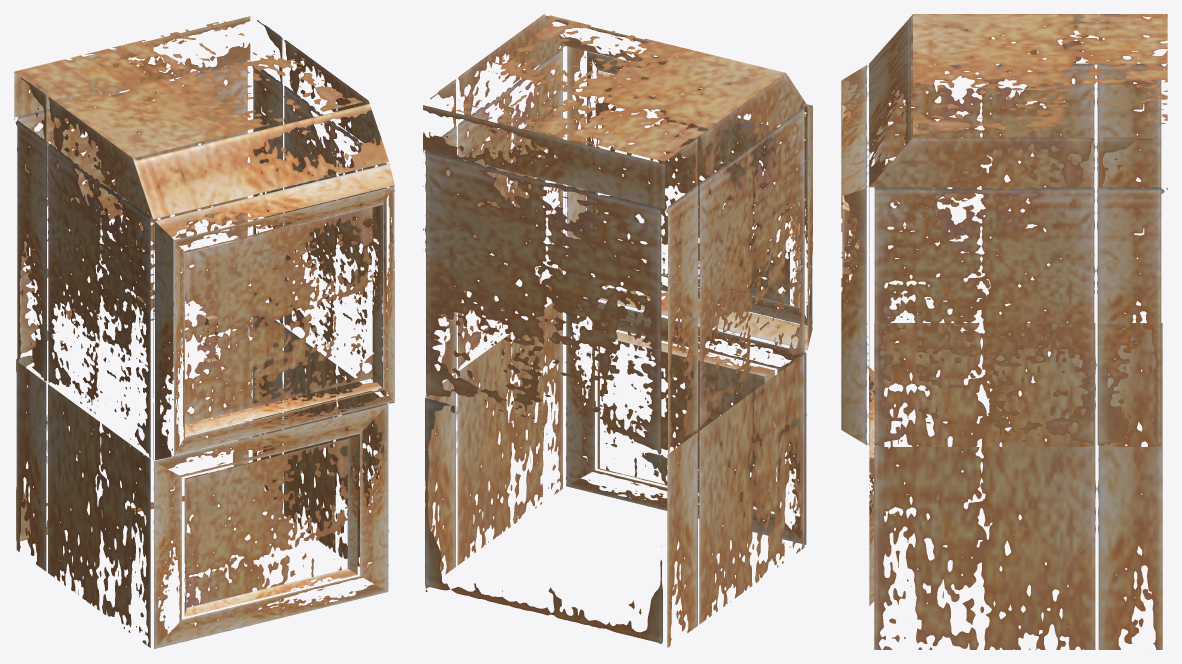
The picture shows the model from 3 angles, left to right: view 1: azimuth 30°, elevation 25°; view 2: azimuth 150°, elevation 25°; view 3: azimuth 270°, elevation 25°; orthographic projection. The views are drawn at different scales.
Parts seen in each view (by area): view 1: Box_05; view 2: Box_05; view 3: Box_05.
Part boxes in pixels (<box>): Box_05: <box>14,16,394,648</box>; Box_05: <box>423,14,812,647</box>; Box_05: <box>841,14,1167,649</box>.
Size of the model in its own units: 123 by 238 by 138.
